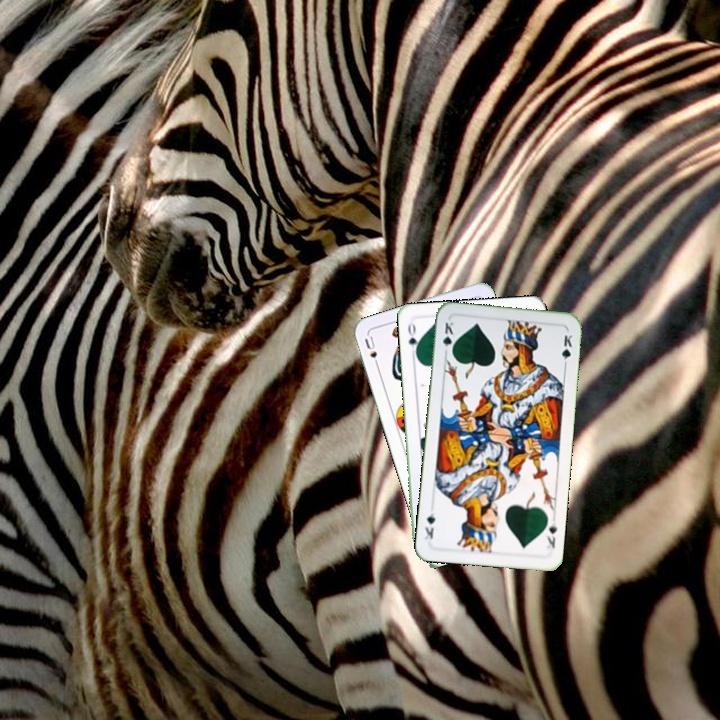GK: (438, 318, 456, 357), (542, 518, 560, 551)
GO: (404, 320, 422, 359)
SU: (361, 332, 382, 371)
